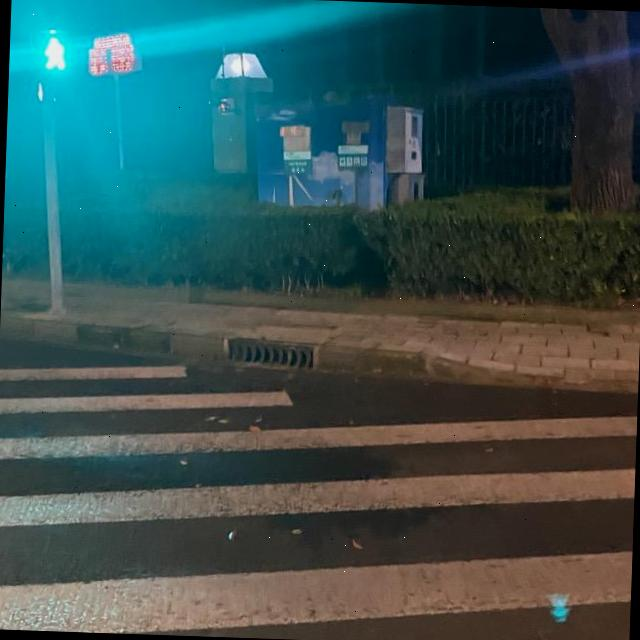curb: (0, 313, 565, 386), (199, 289, 640, 331), (66, 283, 184, 301), (1, 278, 47, 297)
